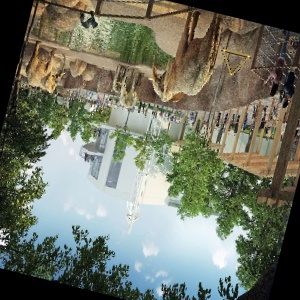triangle: (221, 45, 252, 79)
